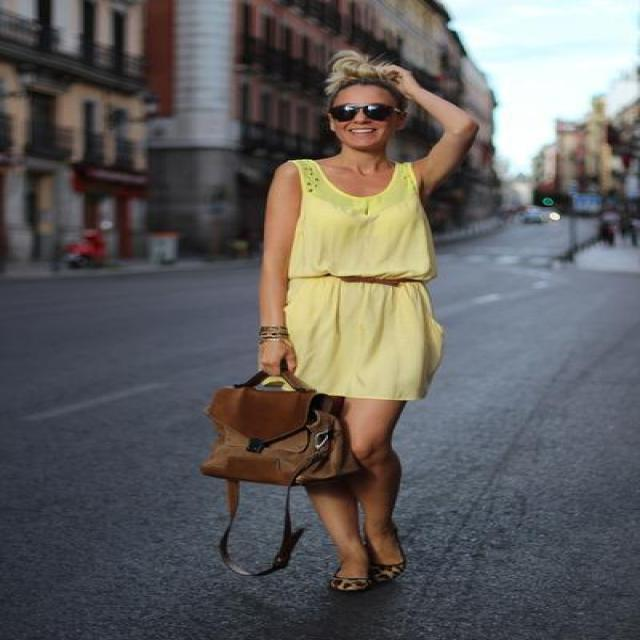bag: (202, 353, 363, 507)
dress: (282, 159, 443, 399)
sunglass: (360, 103, 402, 140)
